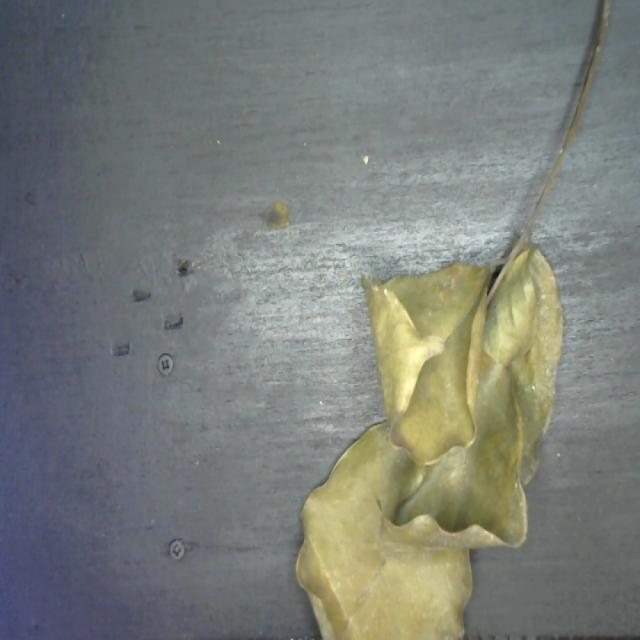biodegradable: (290, 234, 568, 640)
